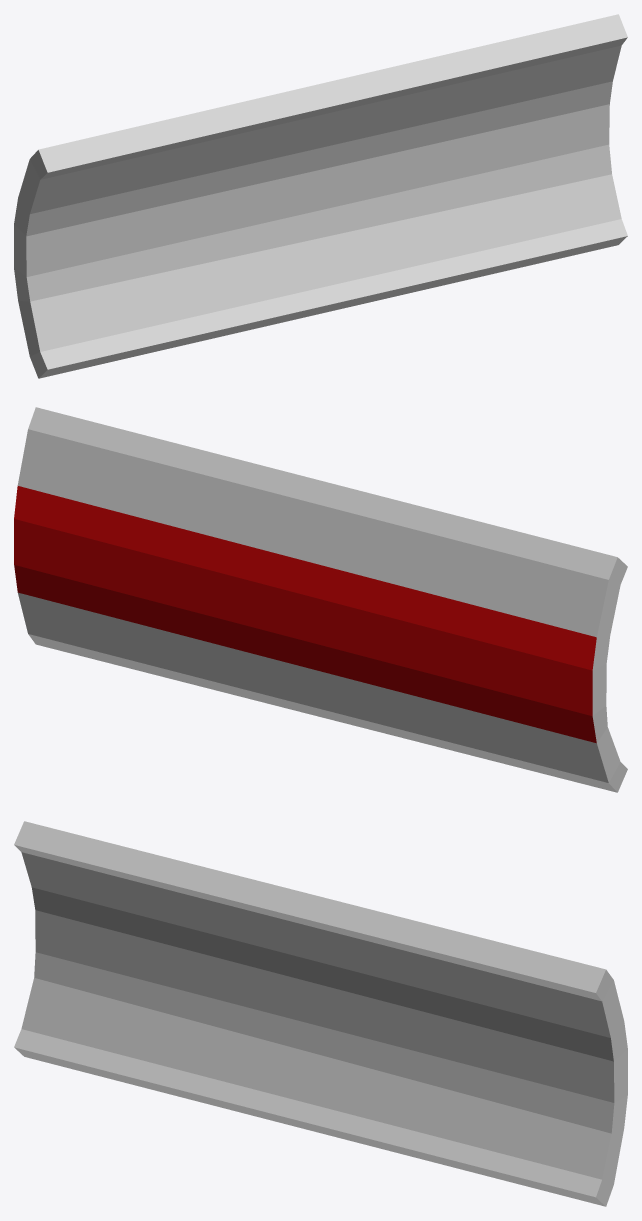
File: Port Nacelle Front Hatch anim.fbx
3 views of the same model, one above another, from view 1: azimuth 30°, elevation 25°; view 2: azimuth 150°, elevation 25°; view 3: azimuth 330°, elevation 25° (orthographic). The views are drawn at different scales.
Parts seen in each view (by area): view 1: Port Nacelle Front Hatch; view 2: Port Nacelle Front Hatch; view 3: Port Nacelle Front Hatch.
Part boxes in pixels (box(x1,y1,x2,y2)): Port Nacelle Front Hatch: box(14, 14, 627, 378); Port Nacelle Front Hatch: box(14, 407, 627, 792); Port Nacelle Front Hatch: box(14, 821, 627, 1206).
Bounding box in the file's own units: 127 × 48.72 × 15.76.
